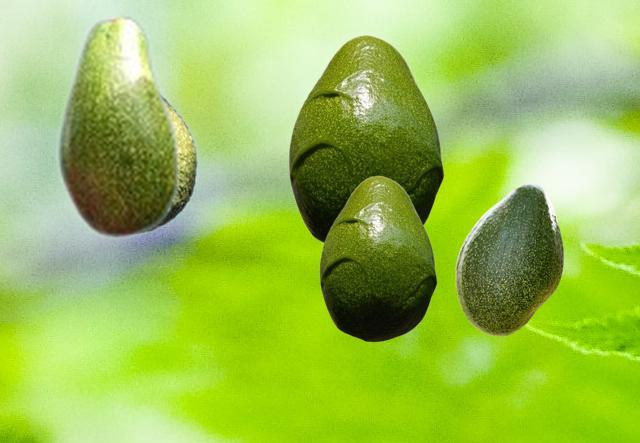avocado: (288, 34, 443, 243), (56, 12, 180, 240), (319, 175, 436, 341), (455, 182, 562, 335), (146, 93, 197, 234)
